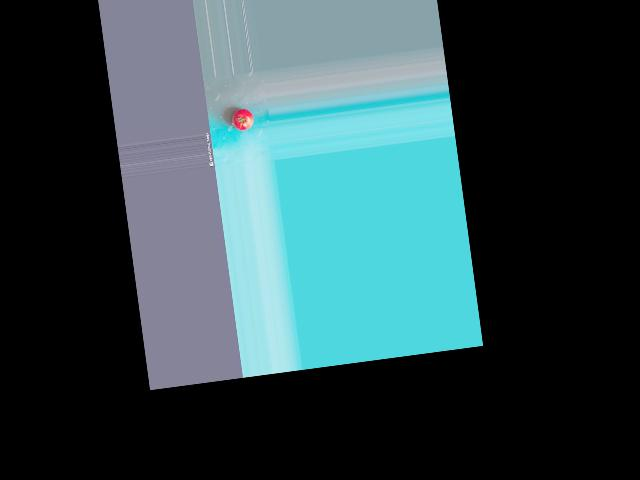tomato: (230, 107, 254, 131)
